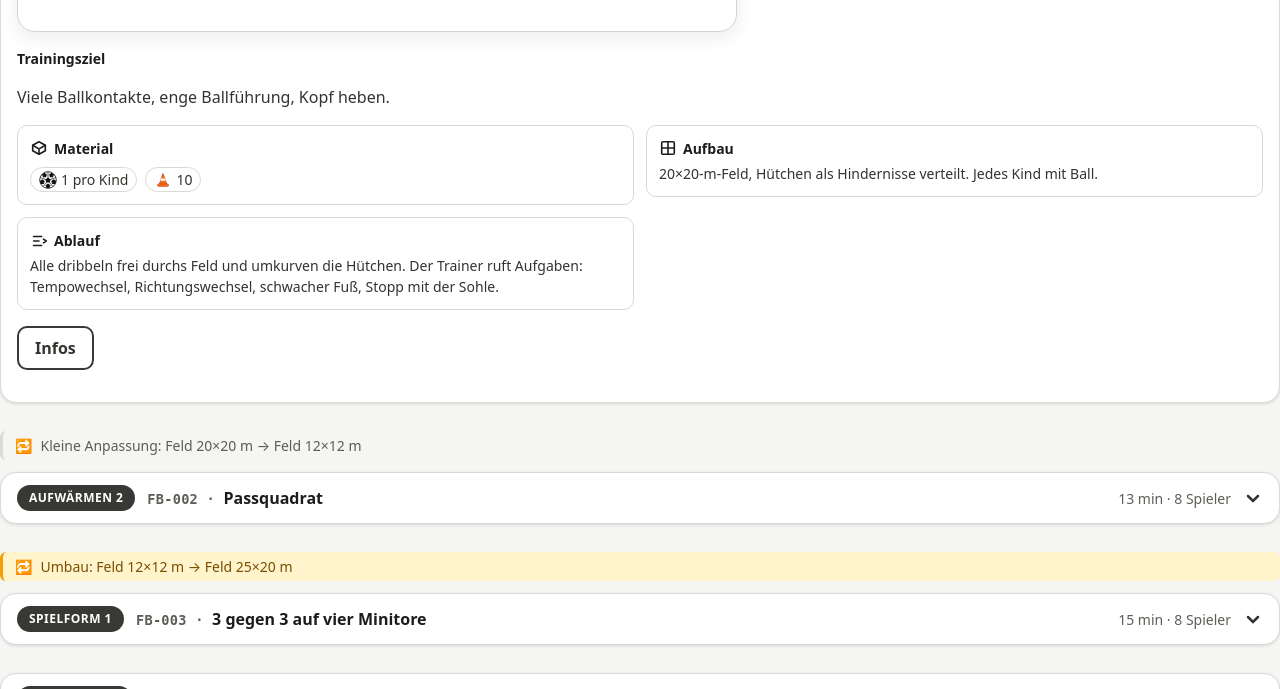
TrainingPlan-Komponente › zeigt Kerninfos direkt und die weiteren Details erst im Infos-Sheet
(page scrolled)
Check: the text "Coaching" is not shown
Check: the text "Mannschaftseinteilung" is not shown
Click the button "Infos" at coordinates (55, 348), box top-left (17, 326), bottom-right (94, 370)
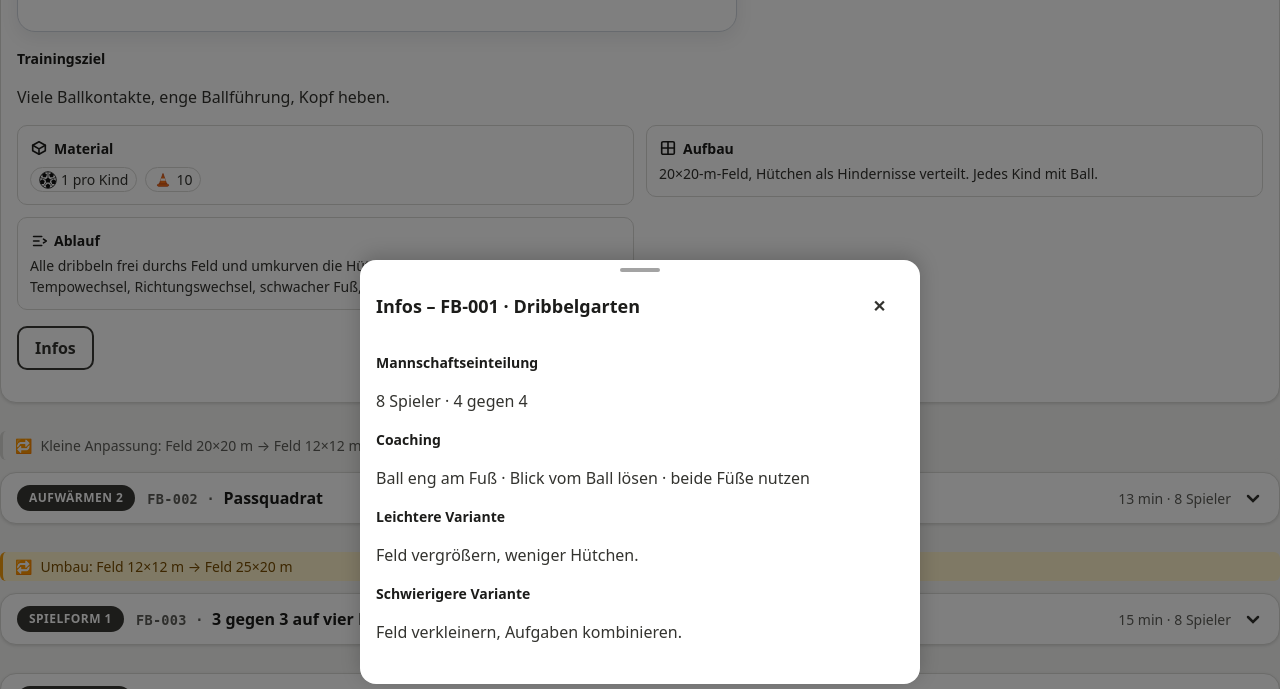
Check: the heading "Mannschaftseinteilung" is shown, box top-left (376, 353), bottom-right (538, 372)
Check: the heading "Coaching" is shown, box top-left (376, 430), bottom-right (441, 449)
